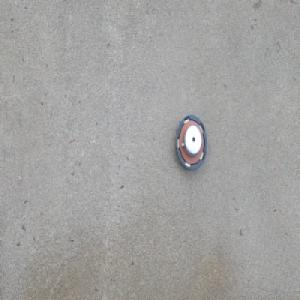FuelCap: (174, 115, 207, 174)
